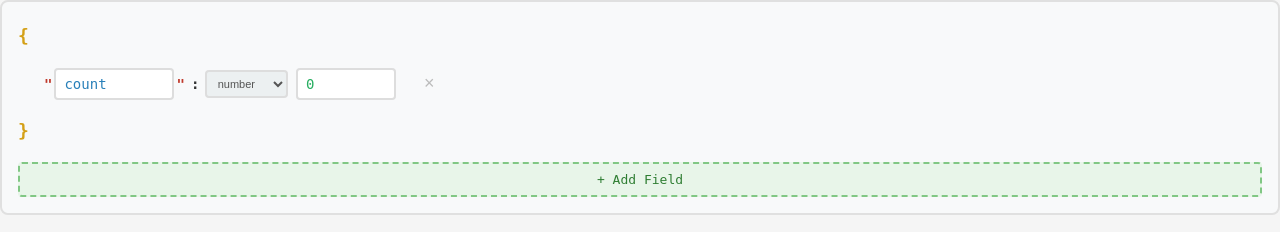
Test case: JsonBuilder Component › Validation › should show error for invalid number input
Note: Find the type selector and change to number
Select "number" in the dropdown at (247, 84), box [205,70,288,98]
Type "not-a-number" into the 2nd field.
click(346, 84); type("not-a-number")  # box [296,68,396,100]
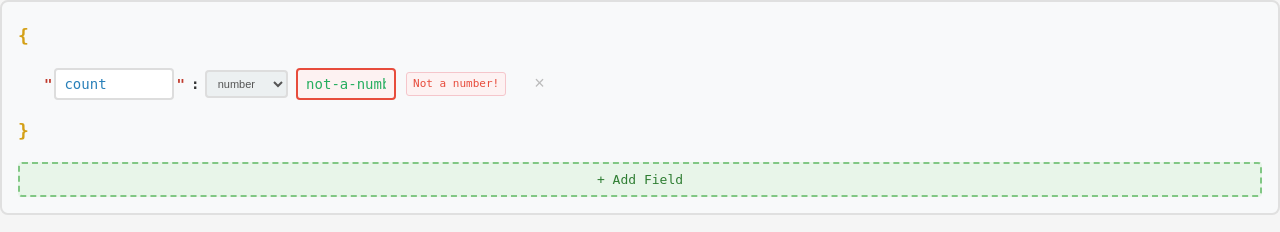
Now the text "Not a number!" is shown, box [406,72,506,96]
